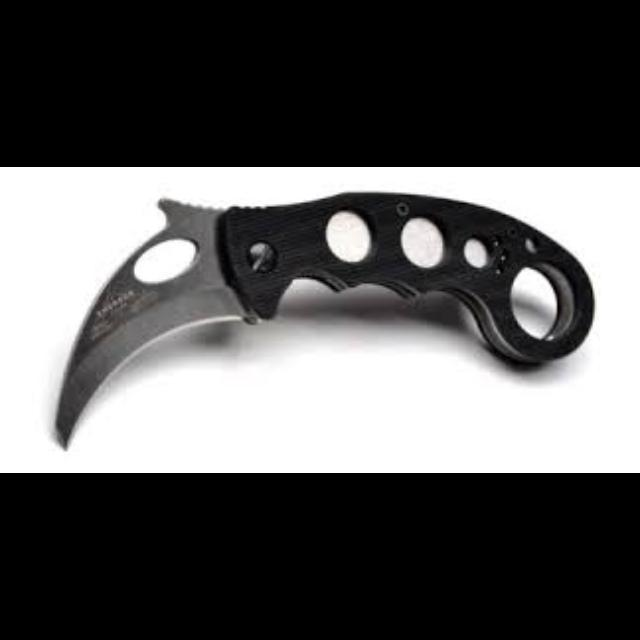knife: (53, 189, 594, 449)
